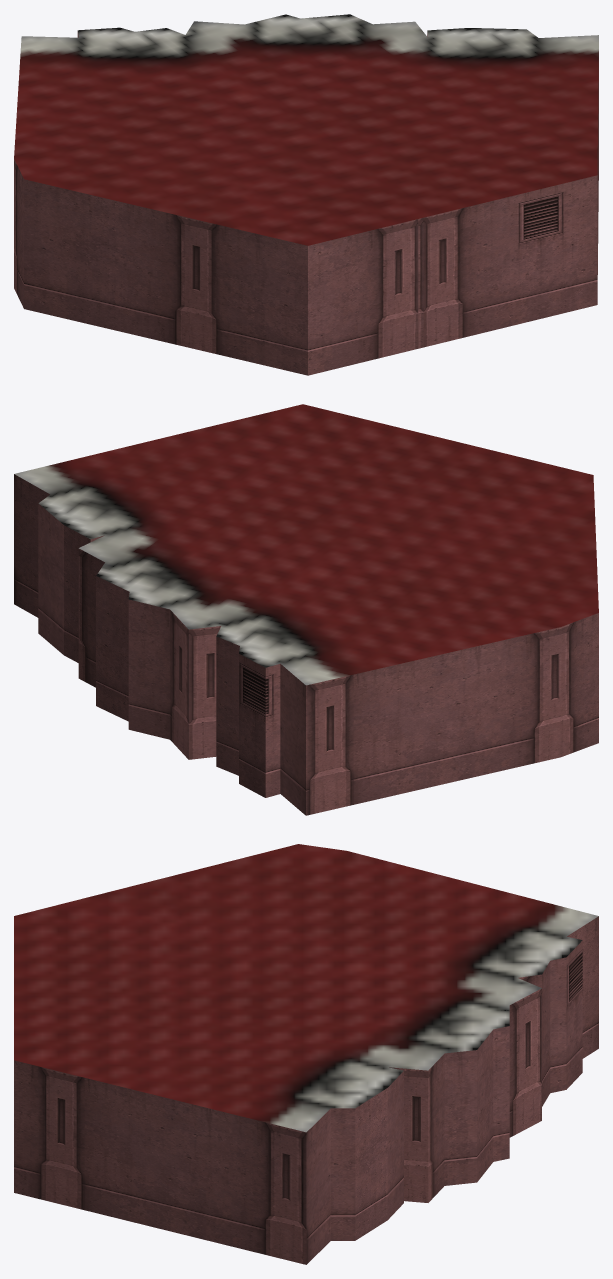
The model's file is hardened_roof60.glb.
3 views of the same model, one above another, from view 1: azimuth 30°, elevation 25°; view 2: azimuth 150°, elevation 25°; view 3: azimuth 270°, elevation 25° (orthographic). The views are drawn at different scales.
Parts seen in each view (by area): view 1: buildings/saxarba/hard/hardened_roof60; view 2: buildings/saxarba/hard/hardened_roof60; view 3: buildings/saxarba/hard/hardened_roof60.
Boxes of the visible parts, x1,y1,x2,y2 form: buildings/saxarba/hard/hardened_roof60: (14,14,598,375); buildings/saxarba/hard/hardened_roof60: (14,404,598,815); buildings/saxarba/hard/hardened_roof60: (14,844,598,1264).
Bounding box in the file's own units: 84 × 18 × 72.
